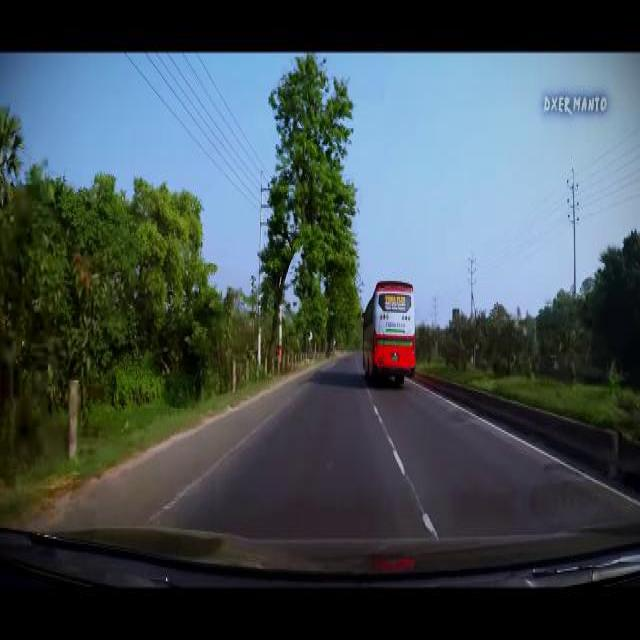bus: (361, 279, 415, 382)
